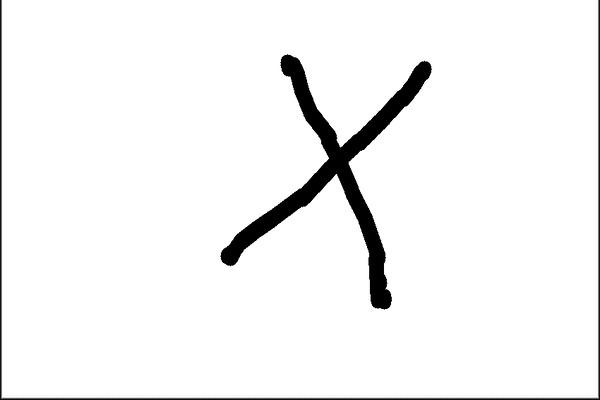X: (207, 26, 437, 325)
